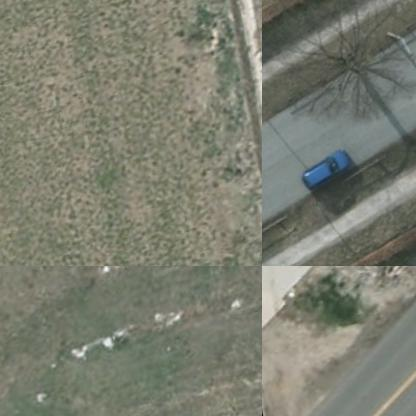car: (302, 148, 364, 188)
